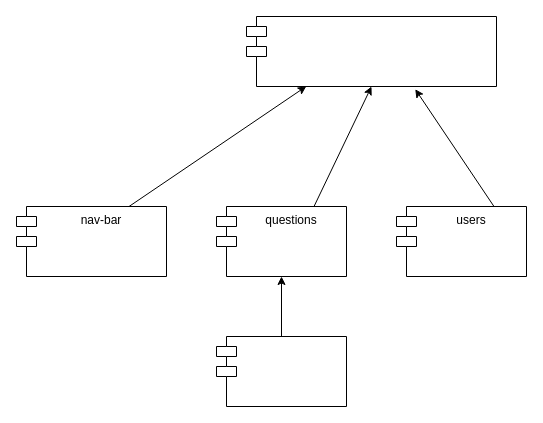
Some shapes in this 543 by 423 pixel diagram are drawn without their labels. The shapes that lost their labels are listed below. From the top down, each one's box as (x1, y1, x2, y2) in pixels, then its label:
(246, 16, 496, 86): app-root
(216, 336, 346, 406): answers
